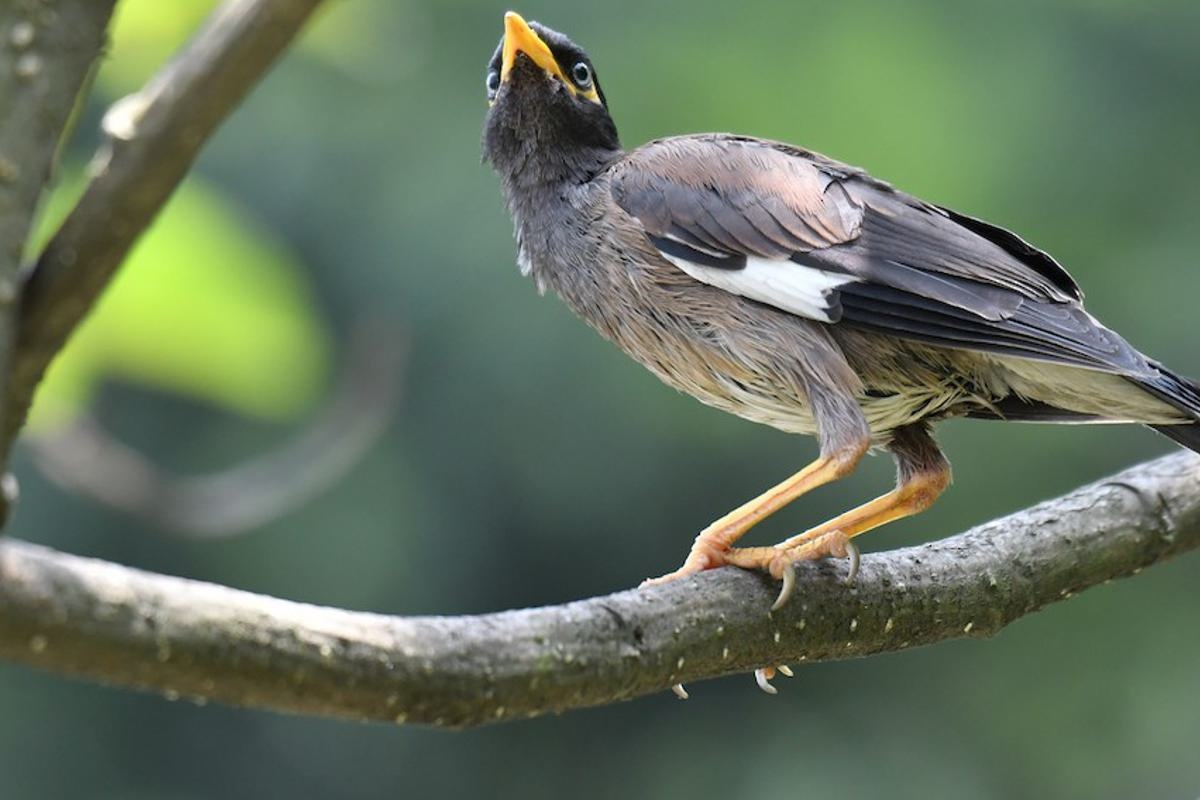myna: (486, 26, 1179, 644)
